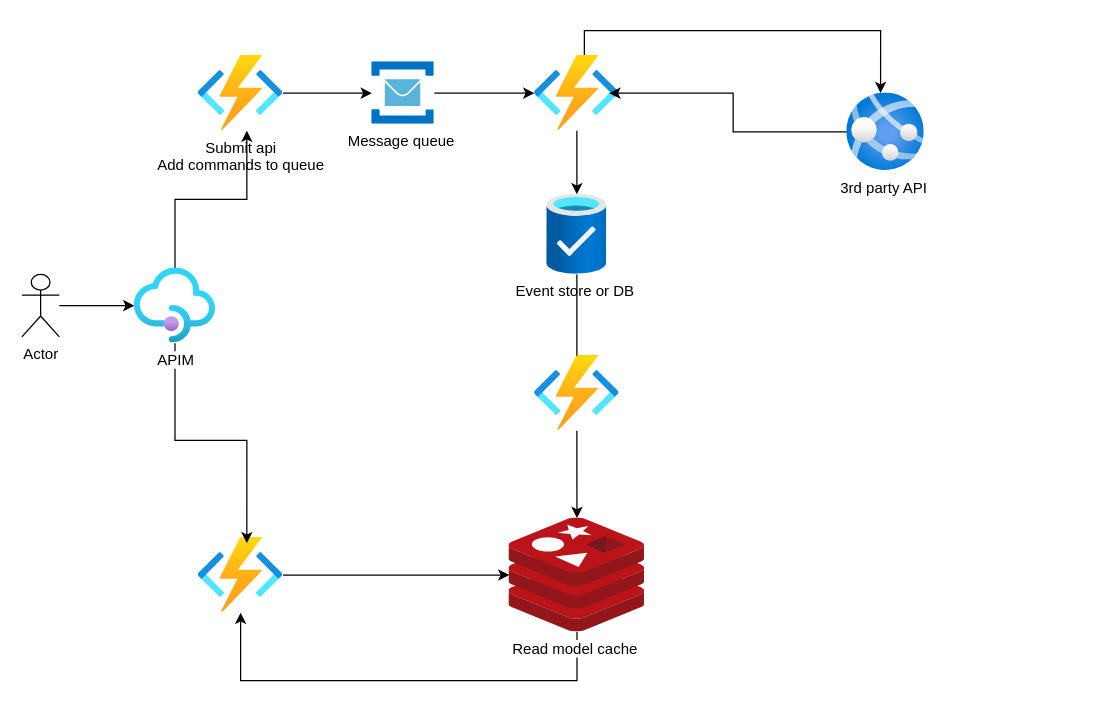
Some shapes in this 1104 by 713 pixel diagram are drawn without their labels. The centre of each missing label's shape, as x and y in pixels:
Command handler: (x=576, y=92)
Generate read model: (x=576, y=392)
Read API: (x=240, y=574)
